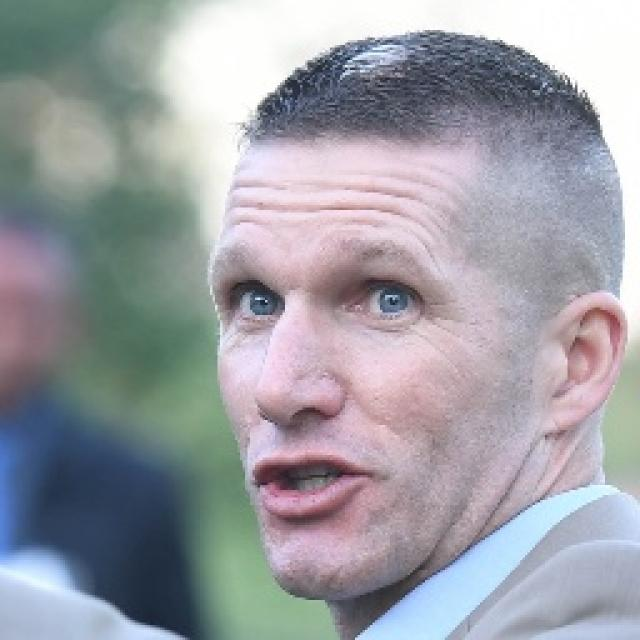earlobe: (543, 291, 629, 435)
